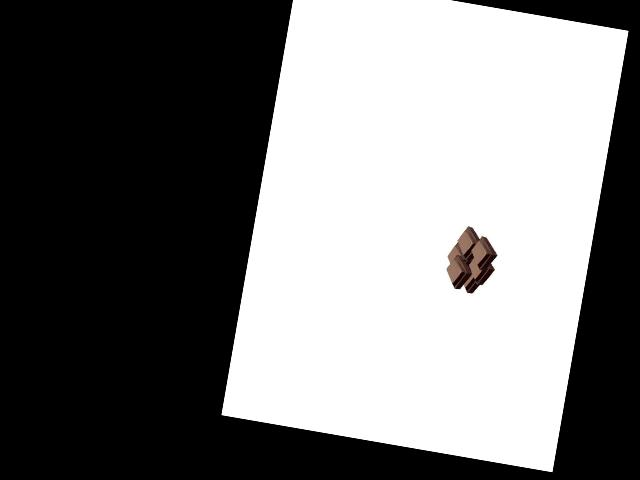chocolate: (439, 224, 499, 298)
